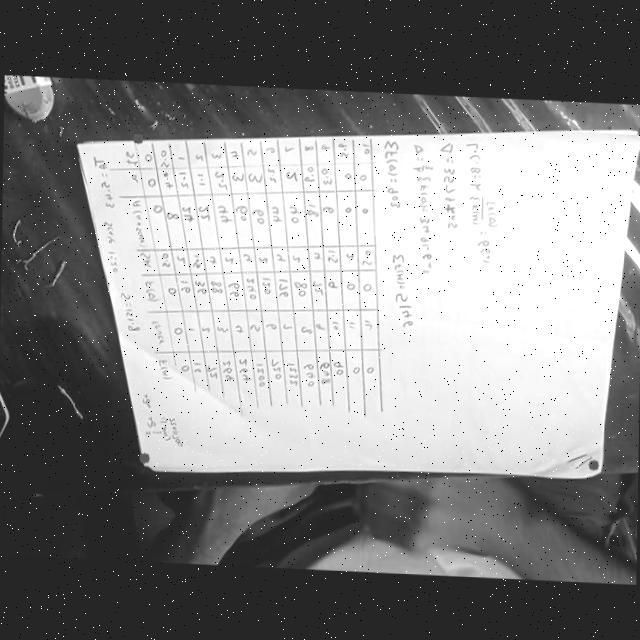document: (79, 131, 640, 476)
